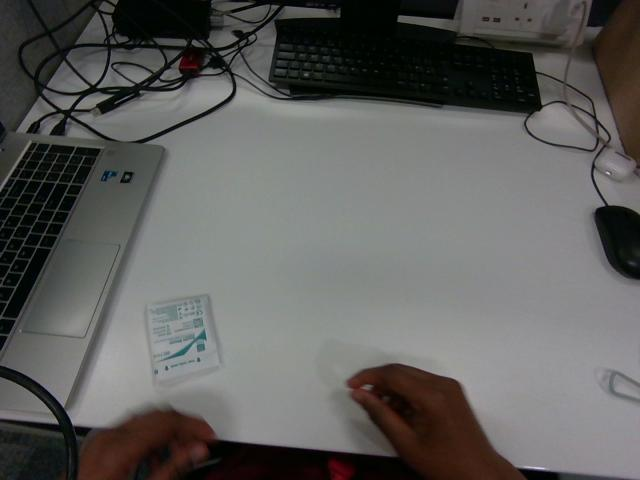gauze: (146, 295, 219, 385)
